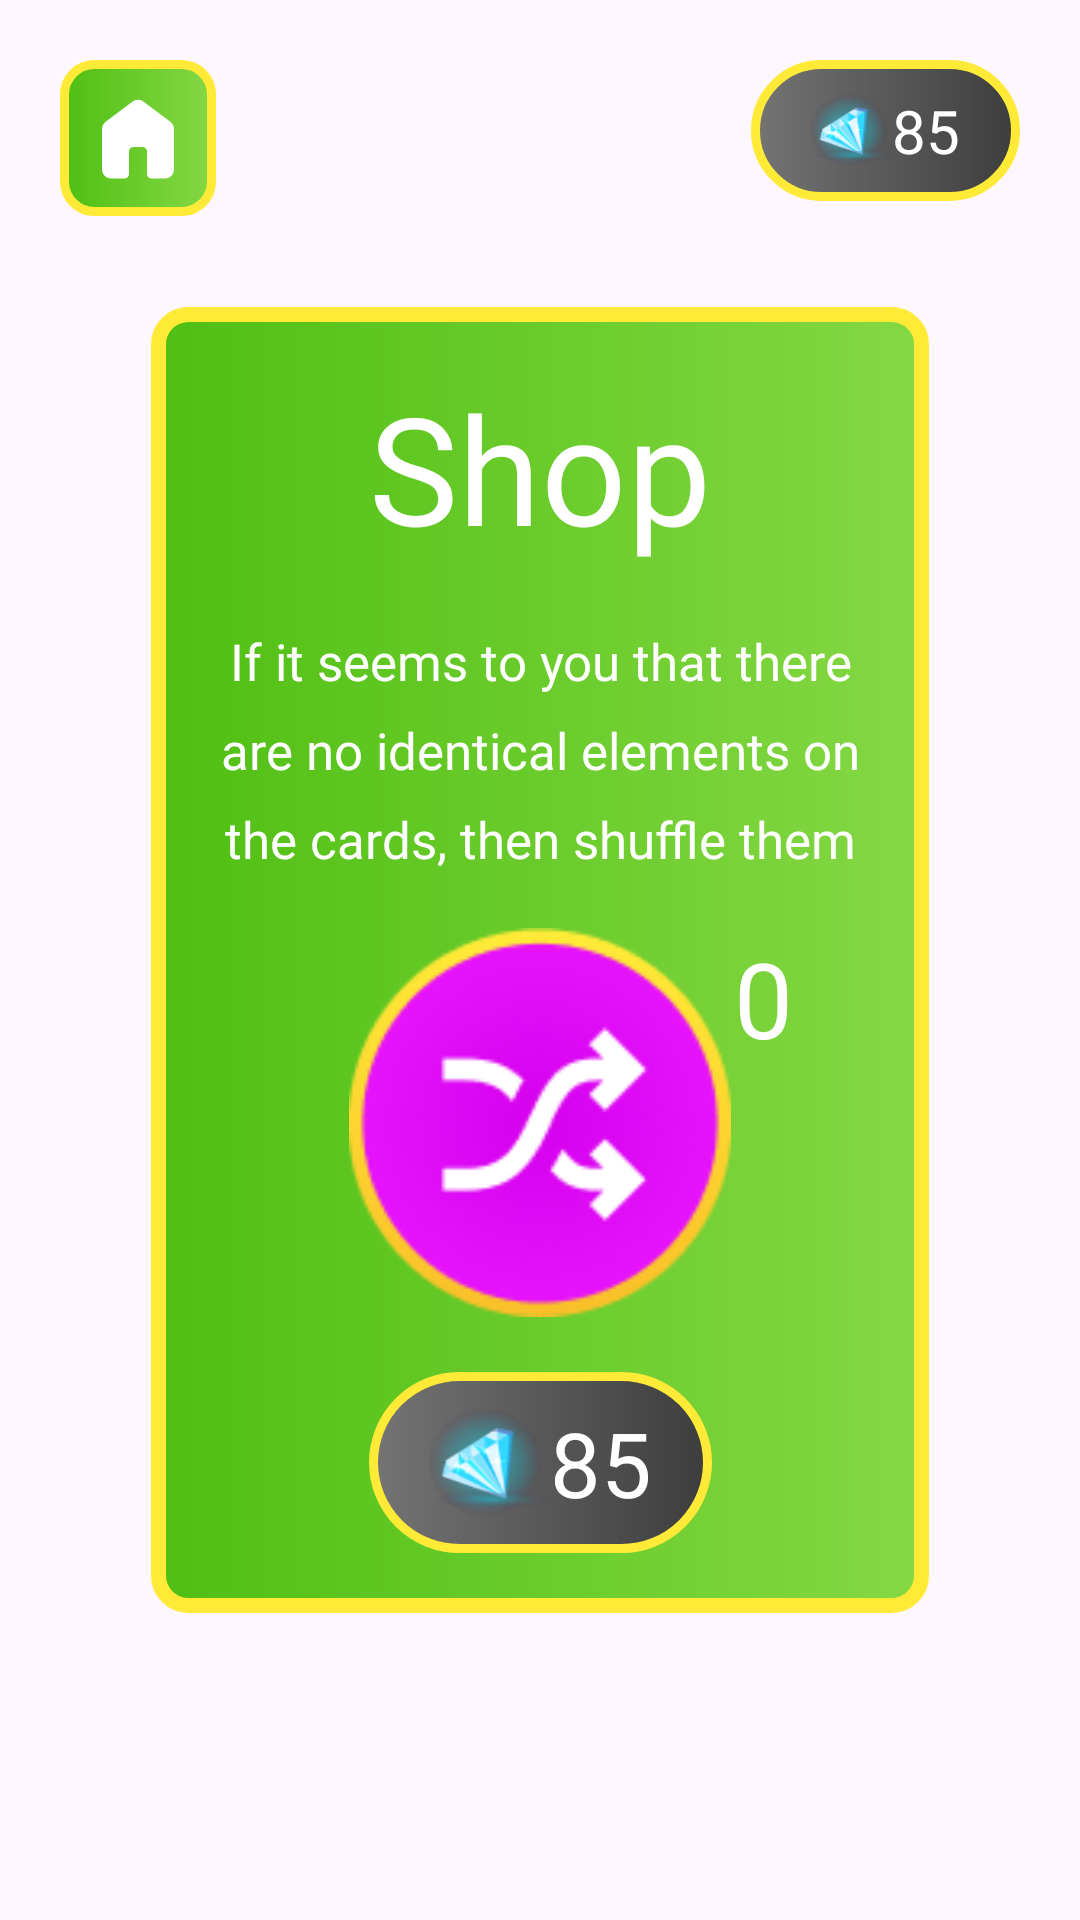

Point at icon controls on the screen. Image size 1080×1920, points as [x,y].
home without: [138,138]
